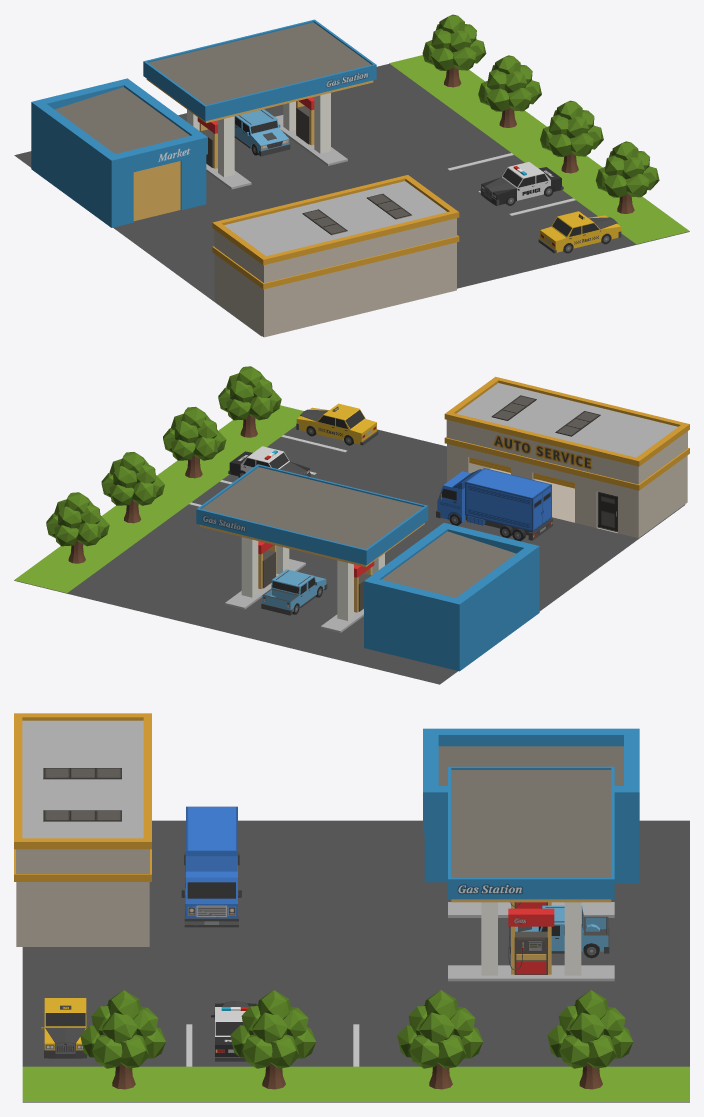
The model's file is gas.gltf.
The picture shows the model from 3 angles, top to bottom: view 1: azimuth 30°, elevation 25°; view 2: azimuth 150°, elevation 25°; view 3: azimuth 270°, elevation 25°; orthographic projection. The views are drawn at different scales.
Parts seen in each view (by area): view 1: Building_Gas Station_Cube.019, Road Tile_Plane.003, Building_Auto Service_Cube.001, Natures_Big Tree_Mesh.008 (×4), Natures_Grass Tile_Plane.010, Vehicle_Taxi_Cube.039, Vehicle_Police Car_Cube.036, Vehicle_Pick up Truck_Cube.095; view 2: Building_Gas Station_Cube.019, Road Tile_Plane.003, Building_Auto Service_Cube.001, Natures_Big Tree_Mesh.008 (×4), Natures_Grass Tile_Plane.010, Vehicle_Container_Cube.056, Vehicle_Taxi_Cube.039, Vehicle_Pick up Truck_Cube.095, Vehicle_Police Car_Cube.036; view 3: Road Tile_Plane.003, Building_Gas Station_Cube.019, Building_Auto Service_Cube.001, Natures_Grass Tile_Plane.010, Natures_Big Tree_Mesh.008 (×4), Vehicle_Container_Cube.056, Vehicle_Taxi_Cube.039, Vehicle_Pick up Truck_Cube.095, Vehicle_Police Car_Cube.036.
Part boxes in pixels (left/top/right/bottom): Building_Gas Station_Cube.019: left=31, top=19, right=376, bottom=227; Road Tile_Plane.003: left=14, top=63, right=689, bottom=336; Building_Auto Service_Cube.001: left=212, top=175, right=459, bottom=337; Natures_Big Tree_Mesh.008 (×4): left=422, top=14, right=659, bottom=213; Natures_Grass Tile_Plane.010: left=389, top=55, right=689, bottom=244; Vehicle_Taxi_Cube.039: left=538, top=211, right=621, bottom=253; Vehicle_Police Car_Cube.036: left=480, top=162, right=563, bottom=205; Vehicle_Pick up Truck_Cube.095: left=234, top=109, right=290, bottom=156; Building_Gas Station_Cube.019: left=196, top=464, right=539, bottom=671; Road Tile_Plane.003: left=14, top=426, right=685, bottom=684; Building_Auto Service_Cube.001: left=444, top=376, right=689, bottom=538; Natures_Big Tree_Mesh.008 (×4): left=46, top=366, right=281, bottom=563; Natures_Grass Tile_Plane.010: left=14, top=405, right=303, bottom=592; Vehicle_Container_Cube.056: left=436, top=468, right=552, bottom=541; Vehicle_Taxi_Cube.039: left=296, top=403, right=378, bottom=445; Vehicle_Pick up Truck_Cube.095: left=261, top=569, right=327, bottom=615; Vehicle_Police Car_Cube.036: left=228, top=446, right=310, bottom=477; Road Tile_Plane.003: left=22, top=820, right=689, bottom=1102; Building_Gas Station_Cube.019: left=423, top=728, right=639, bottom=981; Building_Auto Service_Cube.001: left=14, top=713, right=151, bottom=946; Natures_Grass Tile_Plane.010: left=22, top=1066, right=689, bottom=1101; Natures_Big Tree_Mesh.008 (×4): left=80, top=990, right=633, bottom=1089; Vehicle_Container_Cube.056: left=181, top=806, right=241, bottom=927; Vehicle_Taxi_Cube.039: left=41, top=998, right=86, bottom=1058; Vehicle_Pick up Truck_Cube.095: left=510, top=905, right=609, bottom=958; Vehicle_Police Car_Cube.036: left=211, top=1001, right=256, bottom=1061.
Bounding box in the file's own units: 40.24 × 8.14 × 40.51.
Materials: 10 (10 with a texture image).
